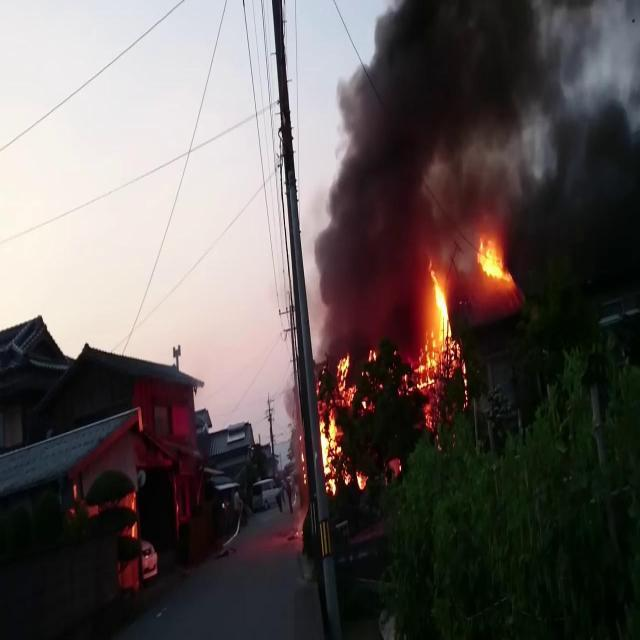Fire: (406, 264, 468, 423), (315, 356, 367, 488), (478, 241, 509, 281)
Smoke: (318, 0, 640, 233), (513, 236, 640, 328), (314, 240, 402, 346)
